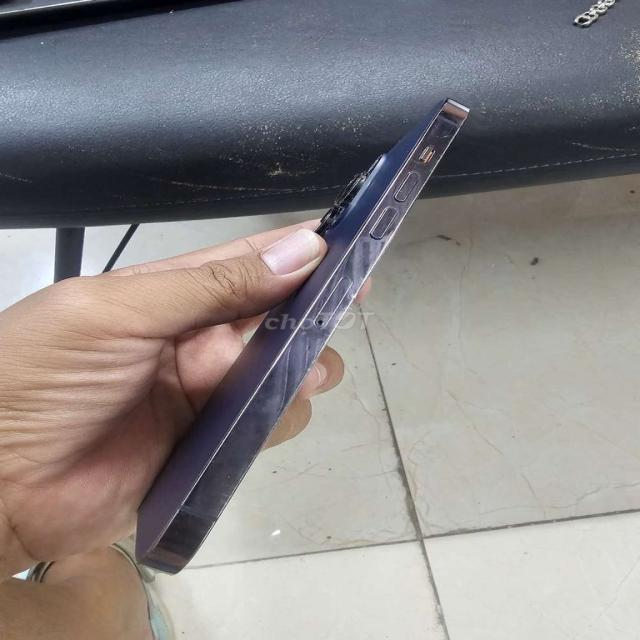gen_14: (128, 99, 484, 577)
scratch: (138, 506, 182, 562), (387, 164, 433, 216), (423, 114, 456, 145), (213, 456, 238, 489)
